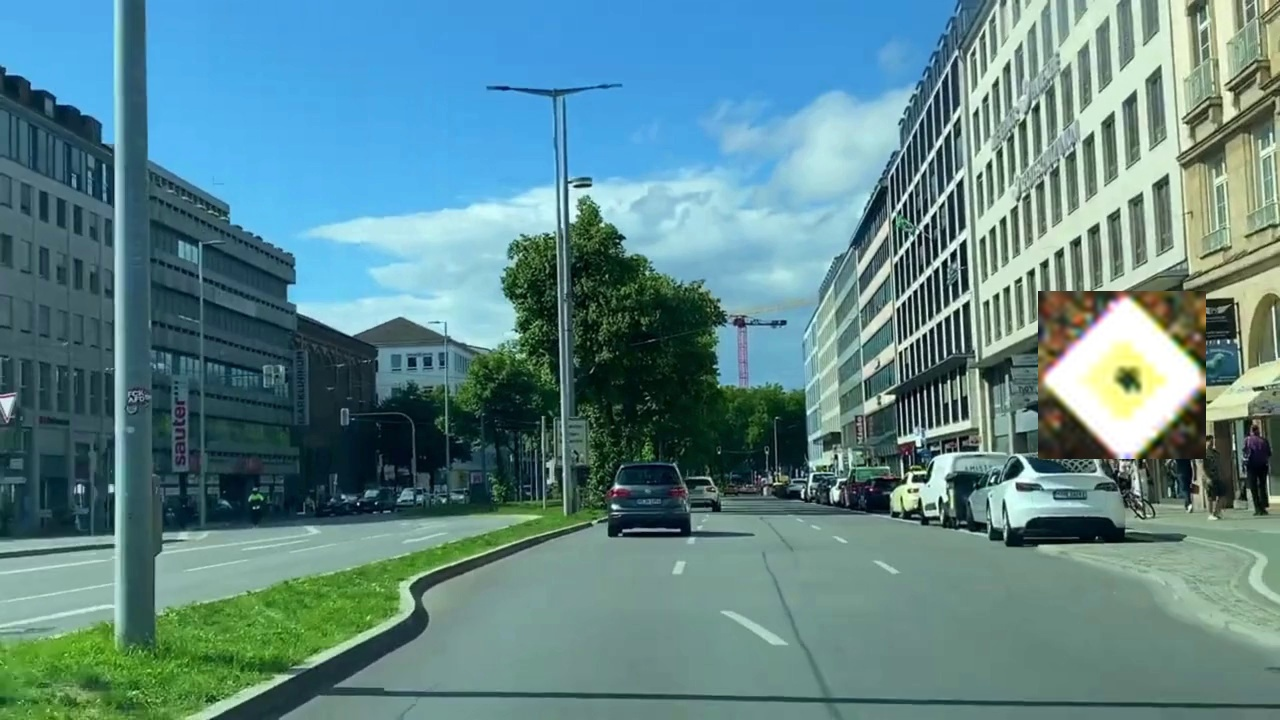Priority road: (1038, 291, 1206, 459)
